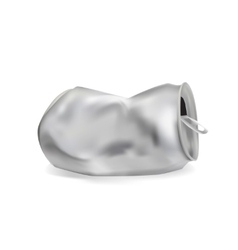can: (34, 81, 210, 180)
